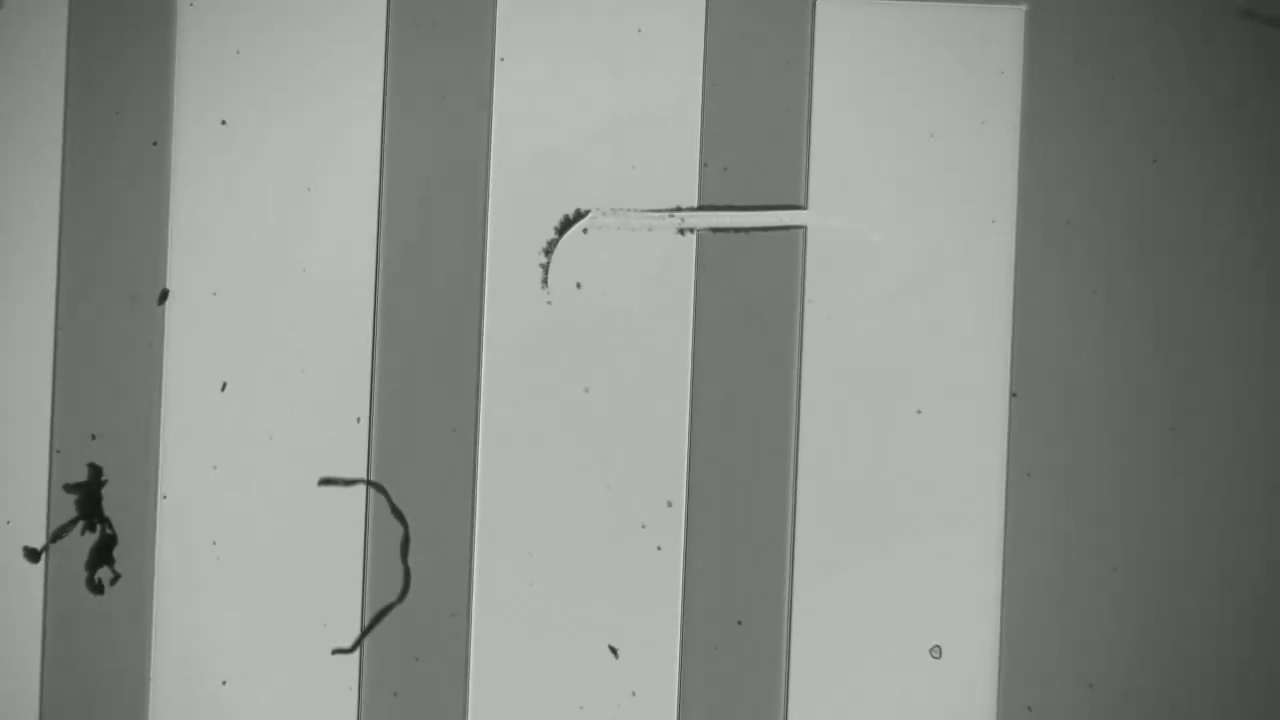Short_circuit: (661, 166, 836, 260)
